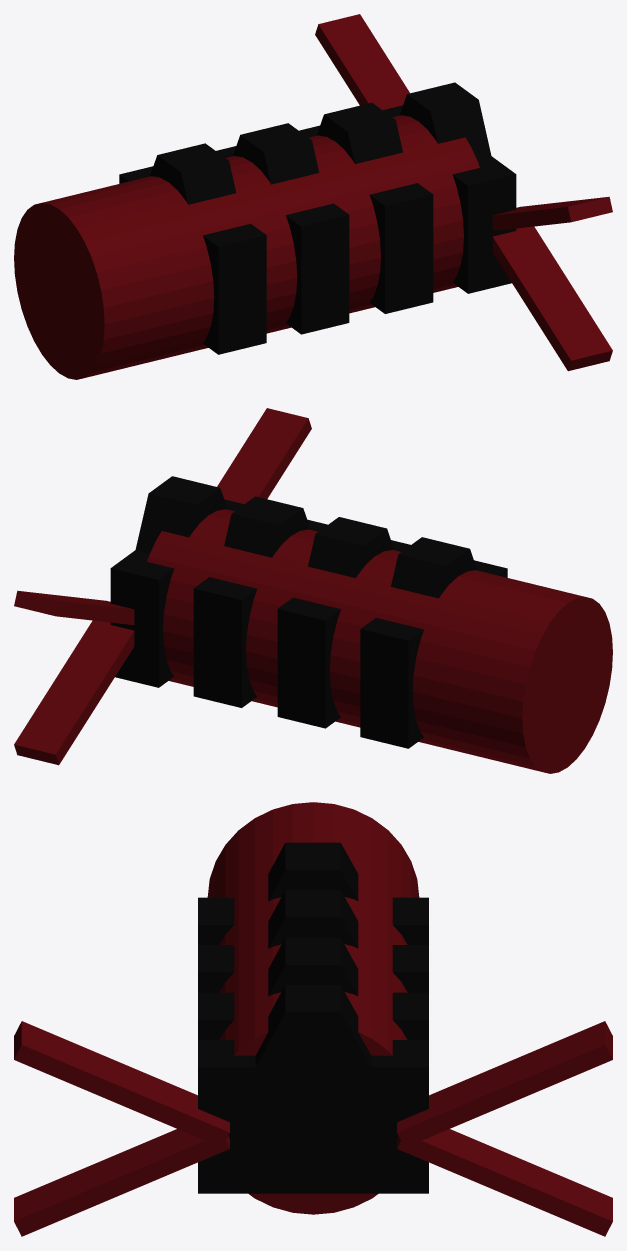
File: player2.obj
The picture shows the model from 3 angles, top to bottom: view 1: azimuth 30°, elevation 25°; view 2: azimuth 150°, elevation 25°; view 3: azimuth 270°, elevation 25°; orthographic projection. The views are drawn at different scales.
Parts seen in each view (by area): view 1: Cylinder, Cube.007, Cube.006, Cube.008, Cube.005, Cube.003, Cube.001, Cube.004; view 2: Cylinder, Cube.007, Cube.006, Cube.008, Cube.005, Cube.002, Cube.004, Cube.001; view 3: Cube.005, Cylinder, Cube.001, Cube.004, Cube.003, Cube.002, Cube.006, Cube.007, Cube.008.
Boxes of the visible parts, x1,y1,x2,y2 form: Cylinder: (14, 115, 479, 379); Cube.007: (119, 143, 266, 354); Cube.006: (299, 102, 433, 313); Cube.008: (216, 123, 349, 334); Cube.005: (383, 82, 516, 293); Cube.003: (492, 226, 612, 371); Cube.001: (315, 14, 409, 110); Cube.004: (492, 196, 612, 230); Cylinder: (147, 509, 612, 773); Cube.007: (360, 537, 507, 748); Cube.006: (193, 496, 327, 707); Cube.008: (277, 517, 410, 728); Cube.005: (110, 476, 243, 687); Cube.002: (14, 620, 134, 765); Cube.004: (217, 408, 311, 504); Cube.001: (14, 590, 134, 624); Cube.005: (198, 985, 428, 1193); Cylinder: (207, 802, 419, 1214); Cube.001: (397, 1021, 612, 1147); Cube.004: (14, 1021, 229, 1145); Cube.003: (14, 1129, 229, 1236); Cube.002: (397, 1129, 612, 1236); Cube.006: (198, 937, 428, 1039); Cube.007: (198, 842, 428, 944); Cube.008: (198, 890, 428, 992).
Bounding box in the file's own units: 0.5422 × 0.2231 × 0.5656.
